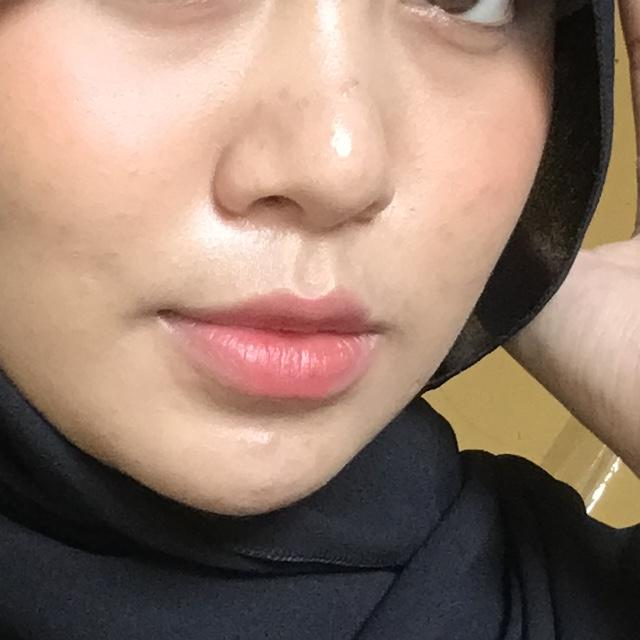mendengar: (490, 0, 640, 626)
